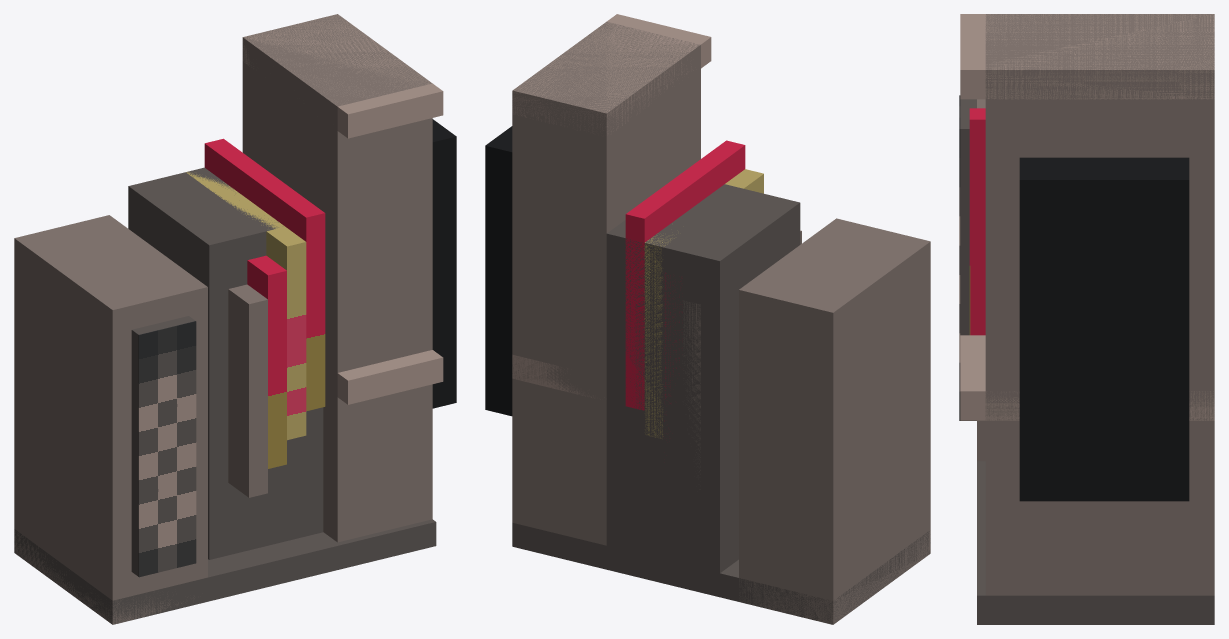
Rendered from CMU3DDropshipNavigationCloudWest.glb.
The picture shows the model from 3 angles, left to right: view 1: azimuth 30°, elevation 25°; view 2: azimuth 150°, elevation 25°; view 3: azimuth 270°, elevation 25°; orthographic projection. The views are drawn at different scales.
Parts seen in each view (by area): view 1: side stepped rear body, keyboard end body, side main screen backing, side keyboard keys source detail, lower connected console rail, raised side upper rim, rear side connector, narrow visible side display 3 substrate, narrow visible side display 0 substrate, narrow visible side display 1 source detail, narrow visible side display 0 source detail, narrow visible side display 3 source detail (+5 smaller); view 2: keyboard end body, side stepped rear body, side main screen backing, lower connected console rail, raised side upper rim, narrow visible side display 0 substrate, rear side connector, narrow visible side display 1 substrate, raised side lower rim, narrow visible side display 3 substrate; view 3: side stepped rear body, rear side connector, raised side upper rim, lower connected console rail, narrow visible side display 0 substrate, raised side lower rim, side keyboard keys substrate, side keyboard keys source detail, keyboard end body, narrow visible side display 0 source detail.
Part boxes in pixels (<box>): side stepped rear body: <box>242,14,432,542</box>; keyboard end body: <box>14,215,207,624</box>; side main screen backing: <box>128,167,323,559</box>; side keyboard keys source detail: <box>138,321,196,577</box>; lower connected console rail: <box>14,519,436,624</box>; raised side upper rim: <box>242,14,443,138</box>; rear side connector: <box>432,119,456,408</box>; narrow visible side display 3 substrate: <box>228,284,267,497</box>; narrow visible side display 0 substrate: <box>204,138,324,241</box>; narrow visible side display 1 source detail: <box>286,241,306,440</box>; narrow visible side display 0 source detail: <box>305,213,325,411</box>; narrow visible side display 3 source detail: <box>248,299,267,497</box>; keyboard end body: <box>739,218,930,624</box>; side stepped rear body: <box>512,21,700,545</box>; side main screen backing: <box>606,184,800,573</box>; lower connected console rail: <box>512,522,930,624</box>; raised side upper rim: <box>512,14,711,133</box>; narrow visible side display 0 substrate: <box>625,140,744,410</box>; rear side connector: <box>485,126,512,416</box>; narrow visible side display 1 substrate: <box>644,169,763,438</box>; raised side lower rim: <box>512,354,604,399</box>; narrow visible side display 3 substrate: <box>682,231,801,489</box>; side stepped rear body: <box>985,14,1214,595</box>; rear side connector: <box>1019,157,1189,501</box>; raised side upper rim: <box>960,14,1214,99</box>; lower connected console rail: <box>977,461,1214,624</box>; narrow visible side display 0 substrate: <box>970,108,985,335</box>; raised side lower rim: <box>960,335,1214,420</box>; side keyboard keys substrate: <box>960,99,976,420</box>; side keyboard keys source detail: <box>959,95,960,420</box>; keyboard end body: <box>977,99,985,461</box>; narrow visible side display 0 source detail: <box>969,108,970,334</box>.
Size of the model in its own units: 0.5938 by 0.722 by 0.301.
10 materials, 4 textured.
